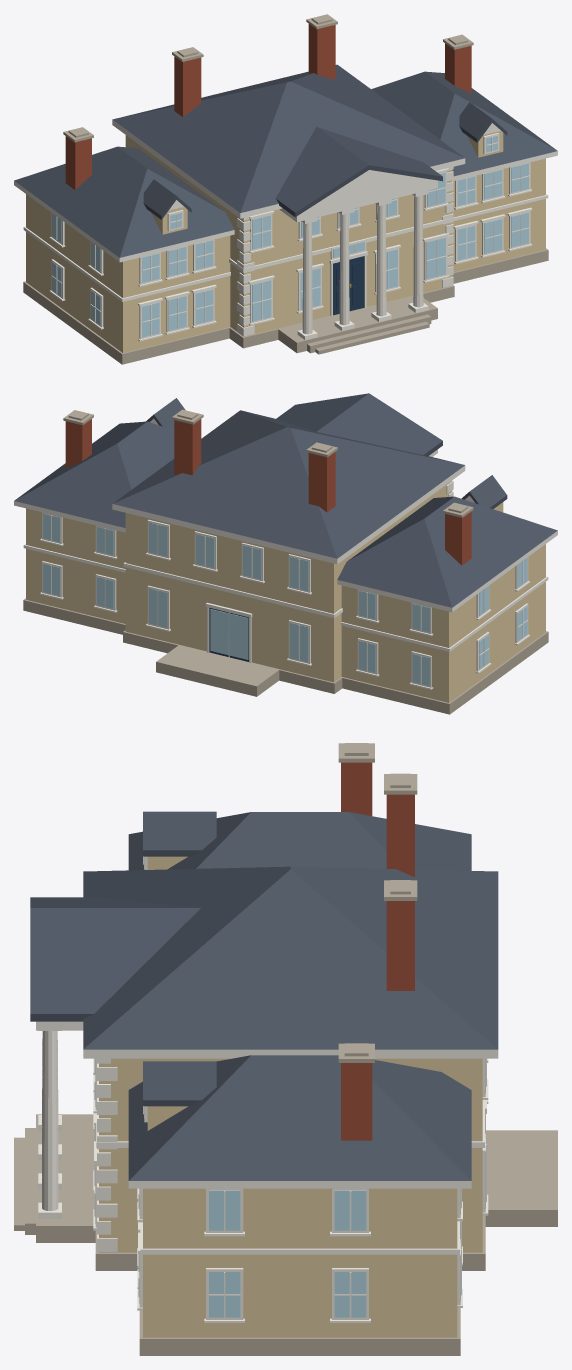
Rendered from house_mansion.glb.
3 renders of one model, top to bottom at view 1: azimuth 30°, elevation 25°; view 2: azimuth 150°, elevation 25°; view 3: azimuth 270°, elevation 25°, orthographic. The views are drawn at different scales.
Visible parts, largest first — view 1: house_mansion; view 2: house_mansion; view 3: house_mansion.
Part boxes in pixels (x1,y1,x2,y2): house_mansion: (14, 14, 557, 364); house_mansion: (14, 393, 557, 714); house_mansion: (14, 743, 557, 1355).
Bounding box in the file's own units: 26.1 × 12.44 × 17.3.
